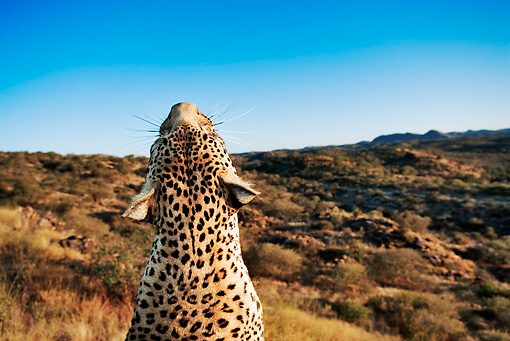leopard: (122, 97, 276, 341)
